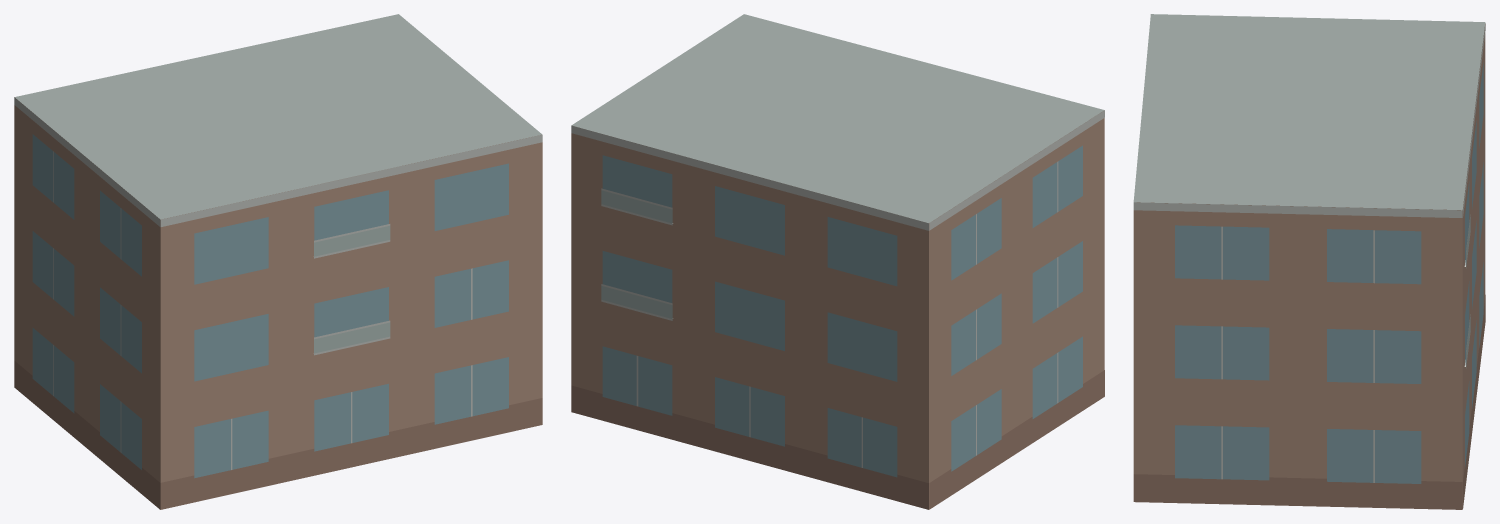
Rendered from survey-upis-32479464.glb.
The picture shows the model from 3 angles, left to right: view 1: azimuth 30°, elevation 25°; view 2: azimuth 150°, elevation 25°; view 3: azimuth 270°, elevation 25°; orthographic projection. The views are drawn at different scales.
Visible parts, largest first — view 1: survey-upis-32479464.tmp; view 2: survey-upis-32479464.tmp; view 3: survey-upis-32479464.tmp.
Part boxes in pixels (x1,y1,x2,y2): survey-upis-32479464.tmp: (14,14,542,509); survey-upis-32479464.tmp: (571,14,1104,509); survey-upis-32479464.tmp: (1133,14,1485,509).
Bounding box in the file's own units: 12.85 × 9.15 × 9.75.
